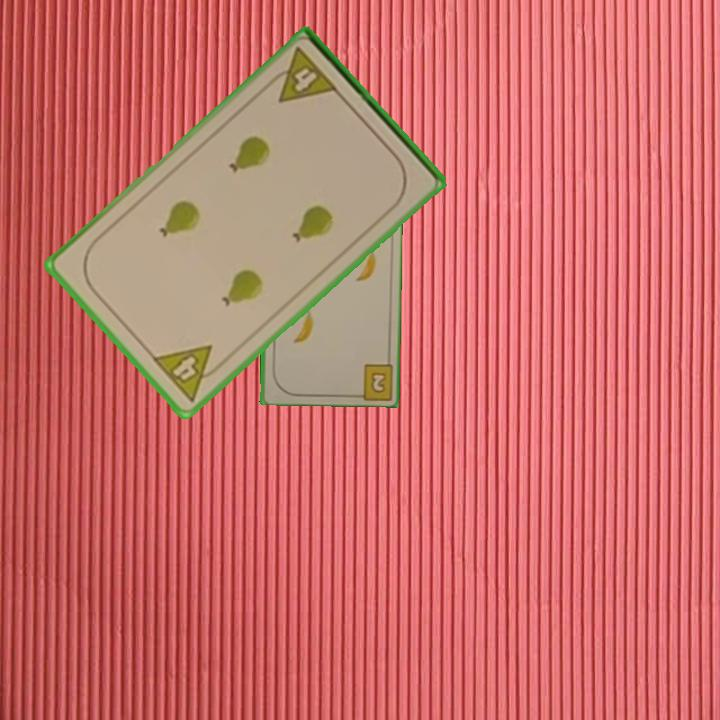2b: (367, 368, 389, 396)
4p: (148, 341, 229, 406), (263, 44, 341, 107)
